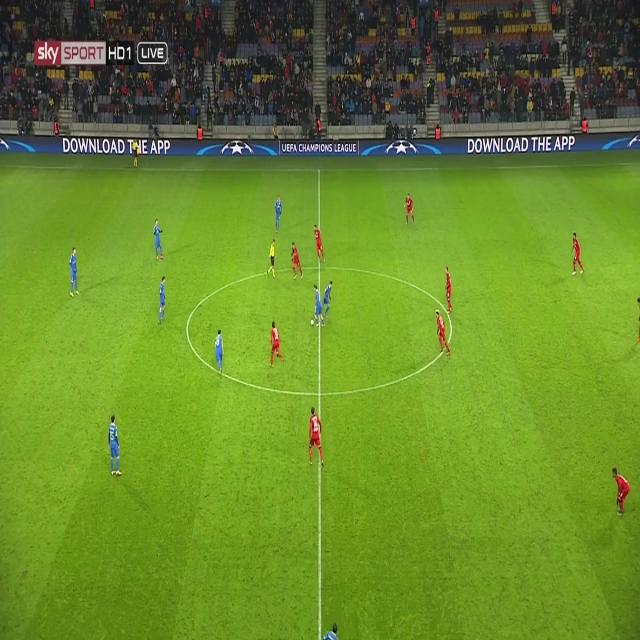Ball: (310, 317, 316, 327)
Player: (610, 462, 633, 518), (307, 404, 325, 469), (106, 412, 122, 480), (268, 321, 287, 369), (434, 308, 451, 357), (570, 230, 587, 278), (156, 275, 168, 329), (288, 242, 304, 282), (312, 282, 325, 330), (312, 225, 327, 265), (68, 245, 79, 299), (443, 265, 454, 316), (153, 218, 165, 264), (214, 325, 224, 376), (322, 276, 333, 322), (403, 192, 415, 229), (273, 195, 283, 235)
Referee: (265, 236, 277, 284), (131, 138, 139, 170)
